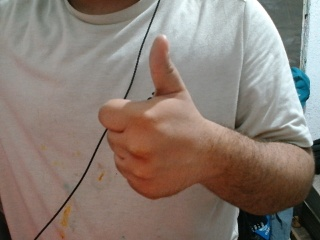Adelante: (67, 25, 223, 204)
